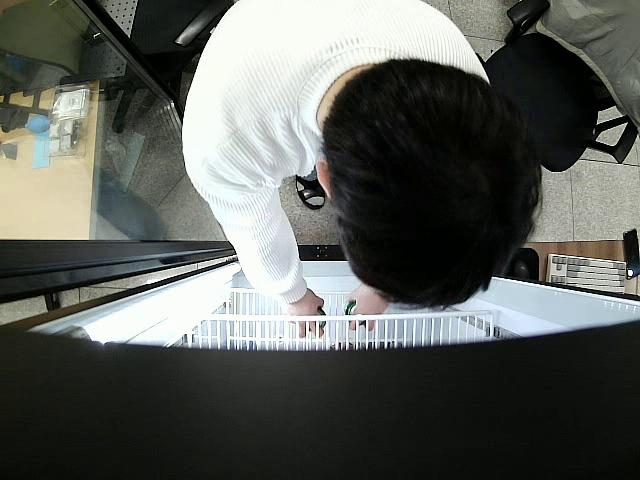00_hand: (284, 287, 324, 340), (348, 285, 390, 331)
